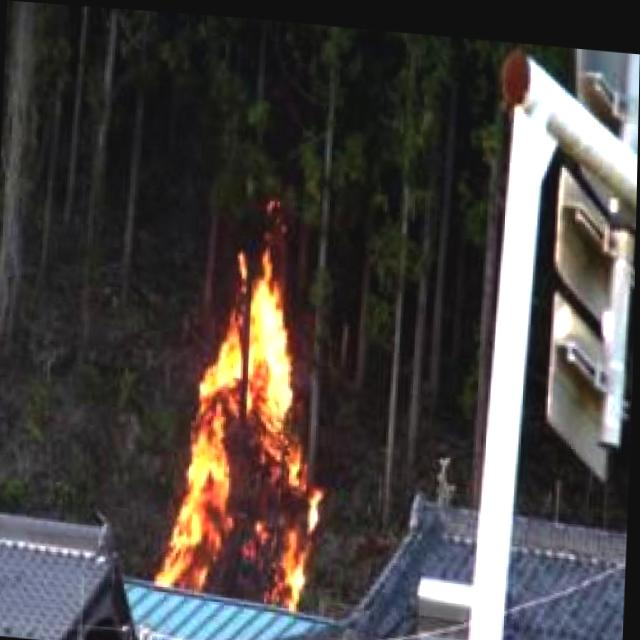helmet: (160, 229, 325, 615)
